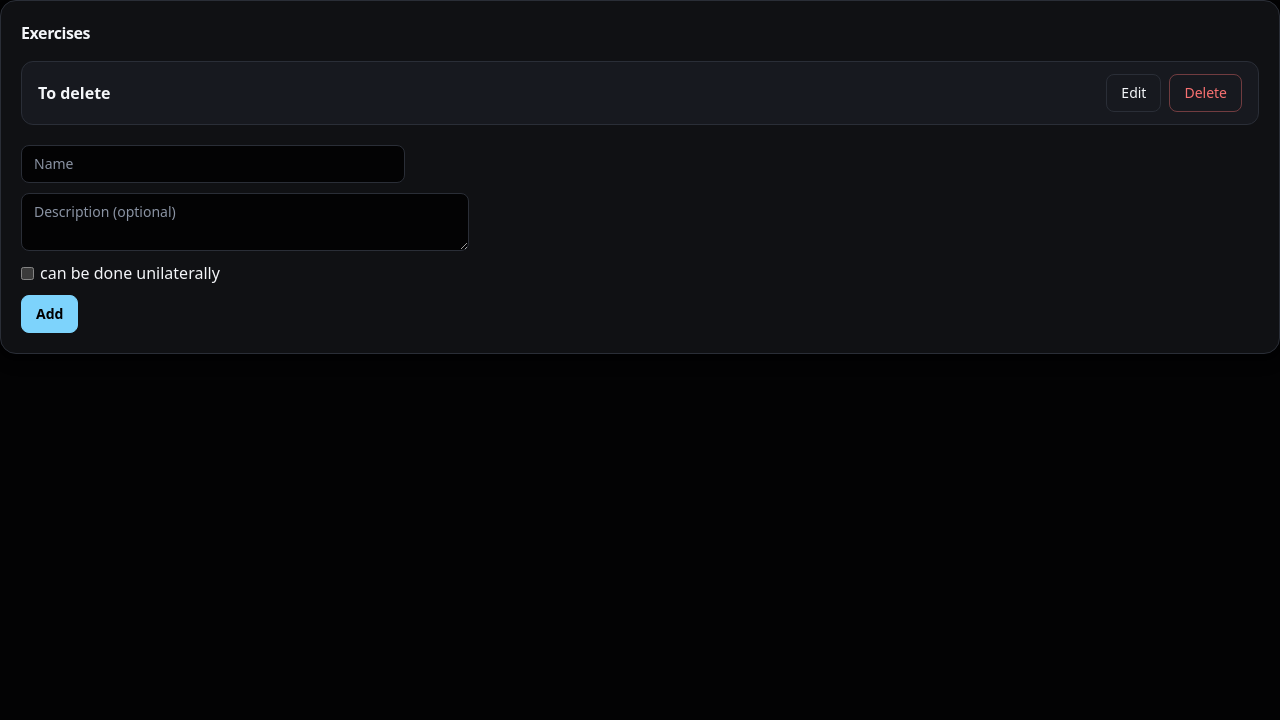
Exercises › deletes an exercise after confirming the dialog
Click the button "Delete" at (1206, 93), box [1169, 74, 1242, 112]
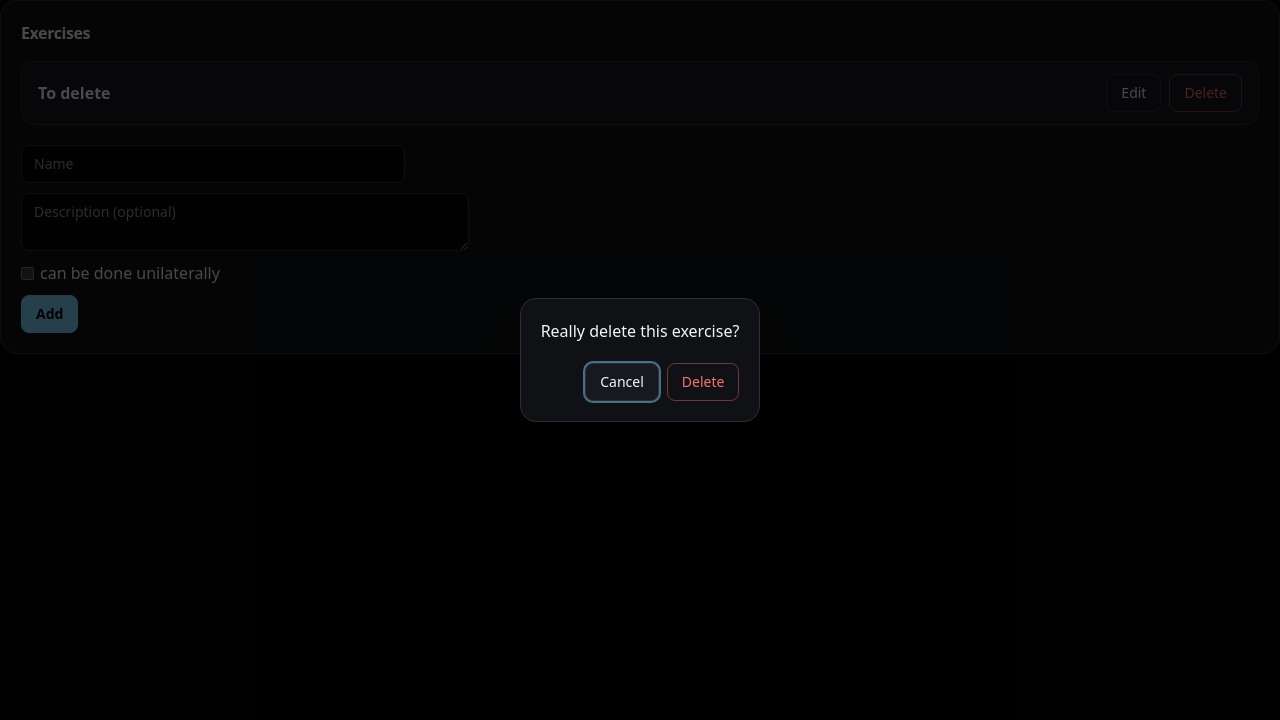
Click the button "Delete" at (703, 382), box [667, 363, 739, 401]
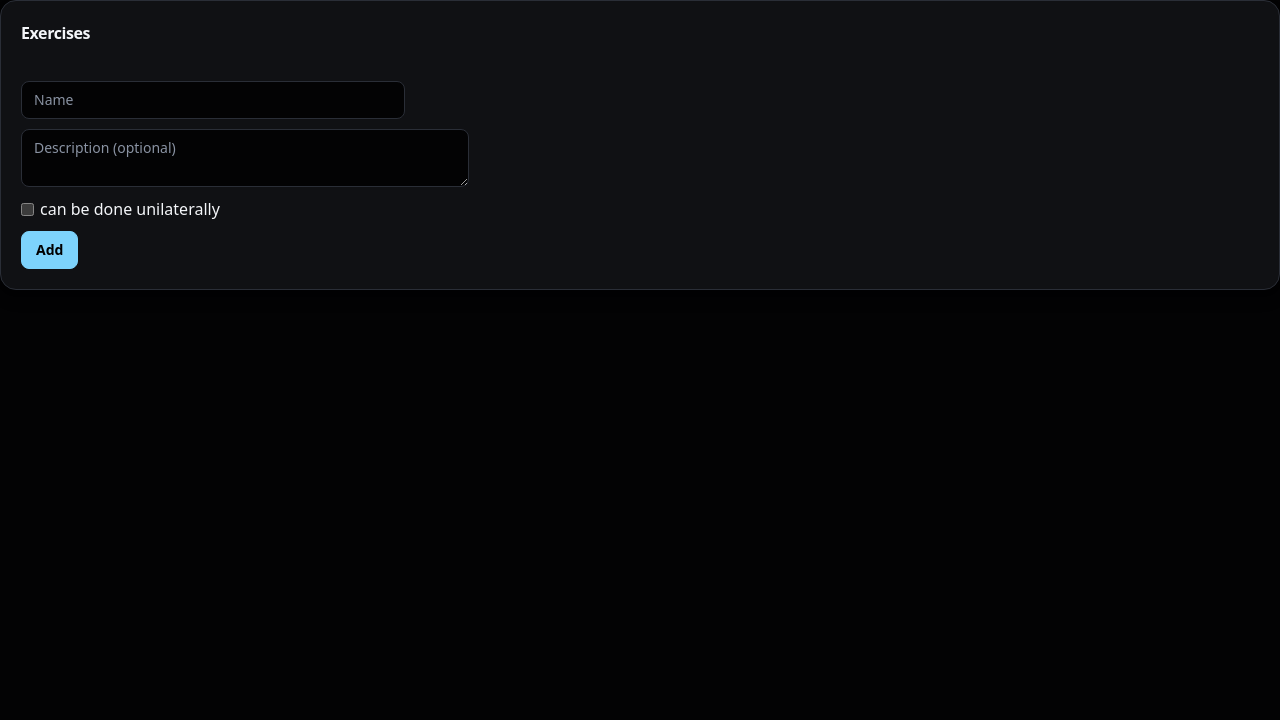
Expected: the text "To delete" is gone
